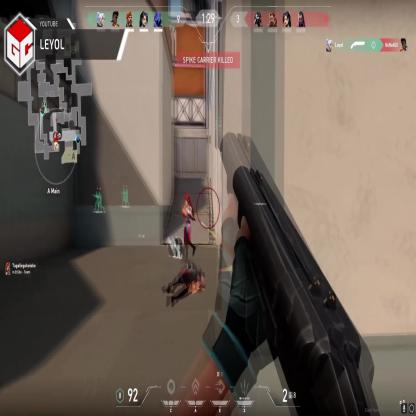enemy: (182, 195, 195, 261)
enemy_head: (184, 197, 188, 207)
